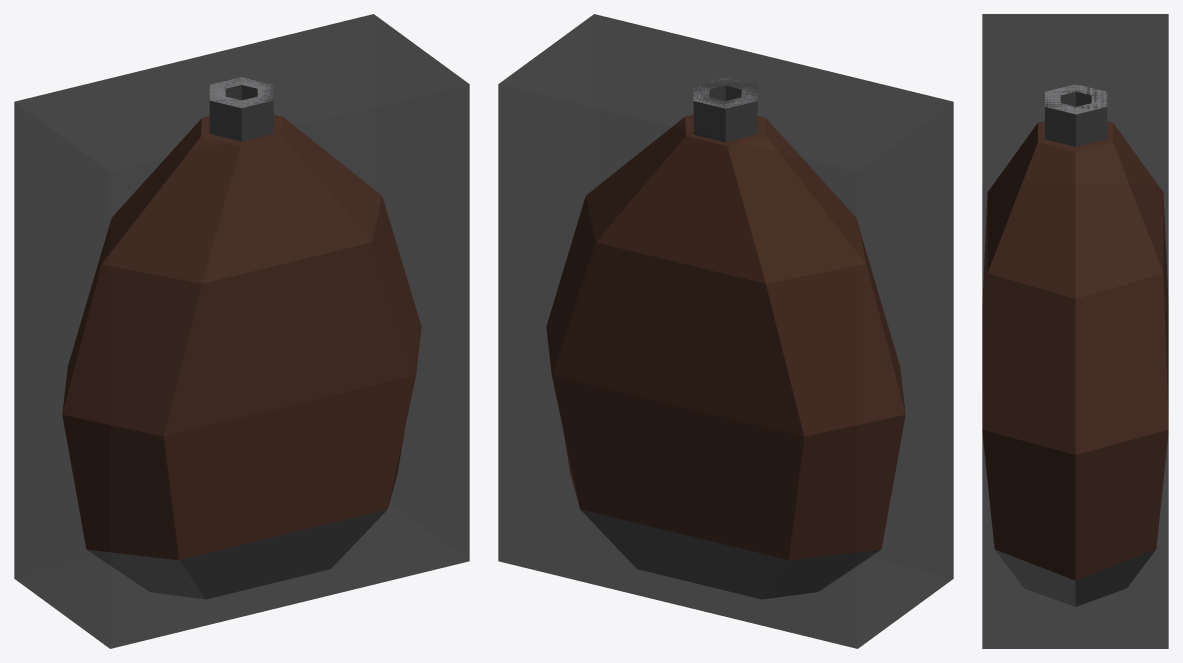
The model's file is WaterBottle.fbx.
3 views of the same model, side by side, from view 1: azimuth 30°, elevation 25°; view 2: azimuth 150°, elevation 25°; view 3: azimuth 270°, elevation 25° (orthographic). The views are drawn at different scales.
Visible parts, largest first — view 1: WaterBottle_BBox, WaterBottle; view 2: WaterBottle_BBox, WaterBottle; view 3: WaterBottle_BBox, WaterBottle.
Boxes of the visible parts, left/top/right/bottom form: WaterBottle_BBox: left=14, top=14, right=469, bottom=648; WaterBottle: left=62, top=77, right=421, bottom=599; WaterBottle_BBox: left=498, top=14, right=953, bottom=648; WaterBottle: left=546, top=77, right=905, bottom=599; WaterBottle_BBox: left=982, top=14, right=1168, bottom=648; WaterBottle: left=982, top=84, right=1168, bottom=606.
Size of the model in its own units: 0.5659 by 0.7178 by 0.2615.
